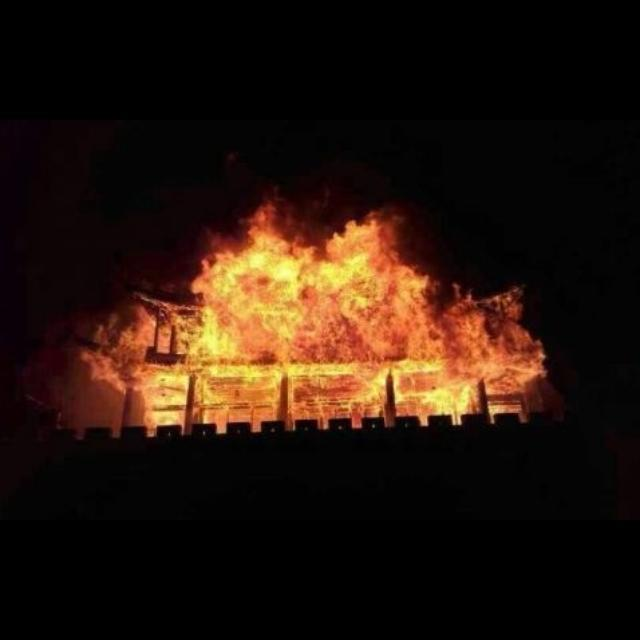Fire: (82, 201, 548, 437)
